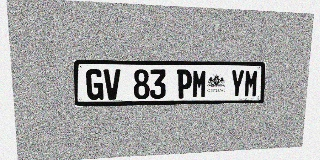3: (150, 69, 166, 99)
8: (134, 69, 150, 99)
G: (86, 69, 104, 100)
M: (192, 70, 207, 98), (244, 70, 259, 97)
P: (176, 69, 192, 98)
V: (104, 69, 121, 100)
Y: (230, 70, 245, 98)
